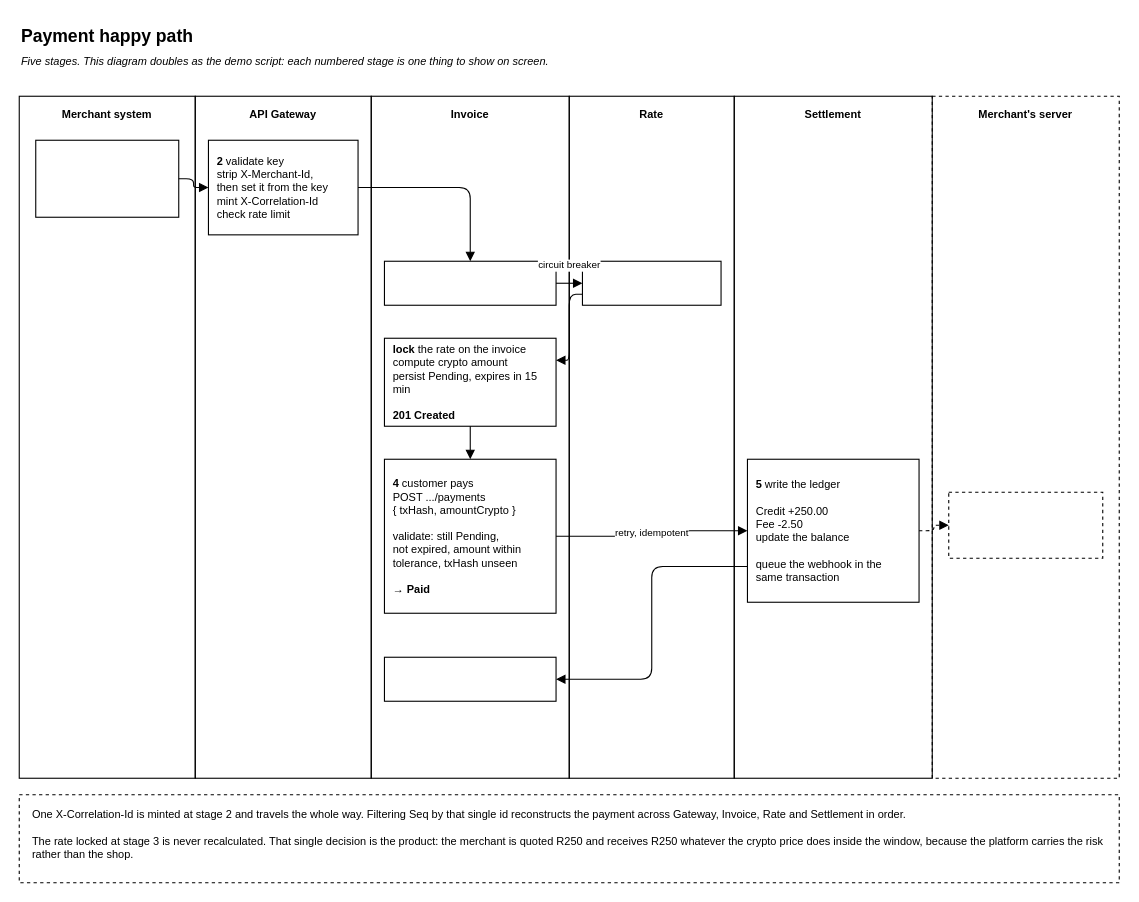
Some shapes in this 1139 by 902 pixel diagram are drawn without their labels. The centre of each missing label's shape, as x and y in pixels:
"1 POST /api/invoices { amountZar: 250, reference, asset } X-API-Key" belongs at point 107,178.
"3 ask for a quote" belongs at point 469,282.
"GBM simulator returns BTCZAR" belongs at point 651,282.
"HMAC-signed POST retry with backoff, dead letter after 6" belongs at point 1025,524.
"→ Settled" belongs at point 469,678.
